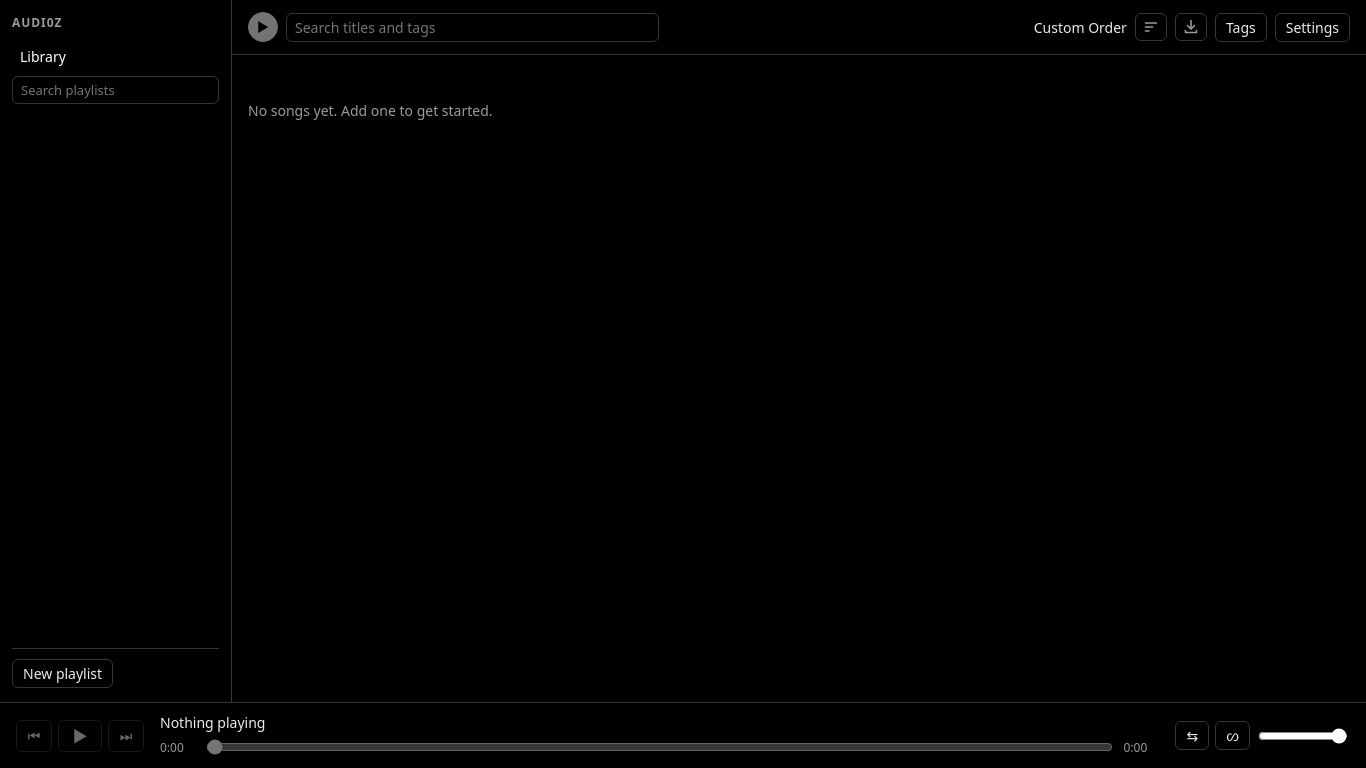
Scenario: AddSongDialog — tags › sends the user to the Tags button when the registry is empty
This screenshot has width=1366, height=768.
Click the button named "Add song": x=1191, y=27 [1175, 13, 1207, 41]
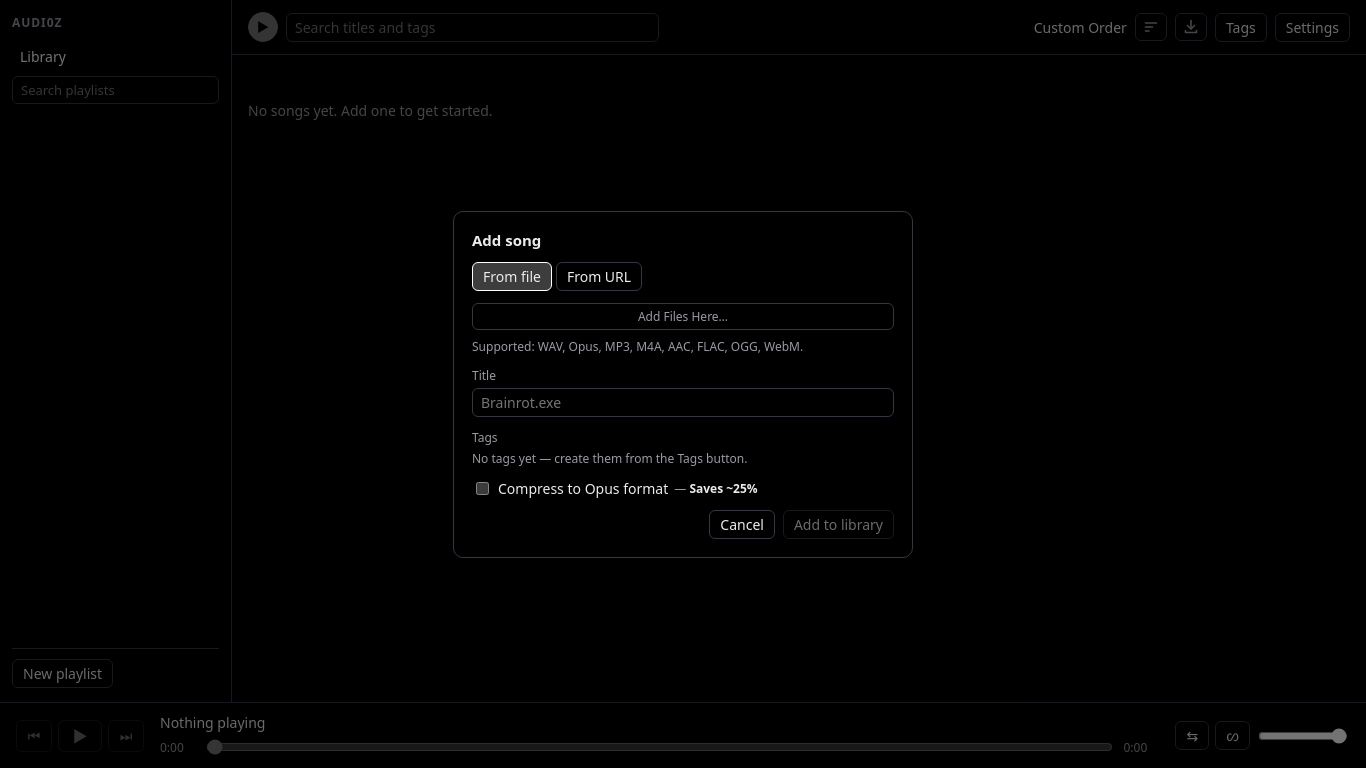
Expected: the text "No tags yet — create them from the Tags button." is shown, [472, 450, 748, 466]
